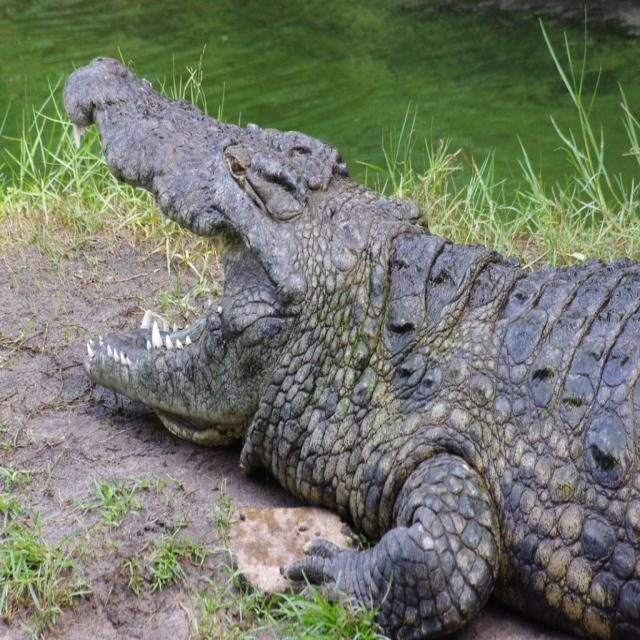crocodile: (53, 56, 525, 525)
